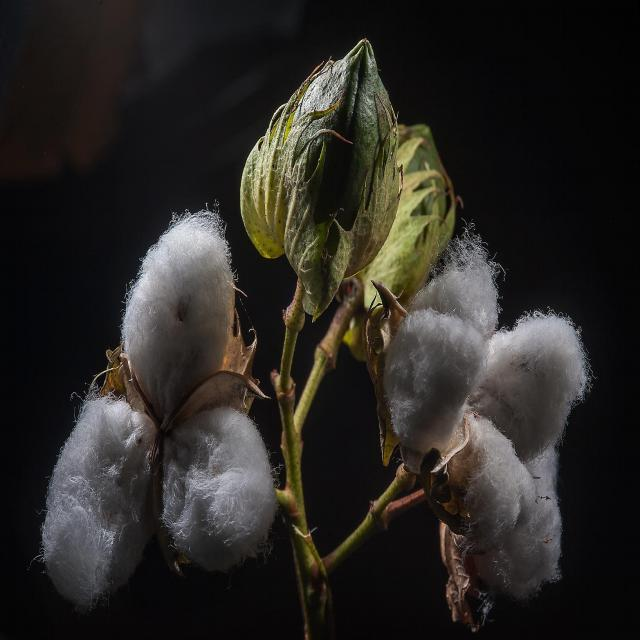Leaf: (29, 192, 284, 625), (365, 228, 601, 640)
